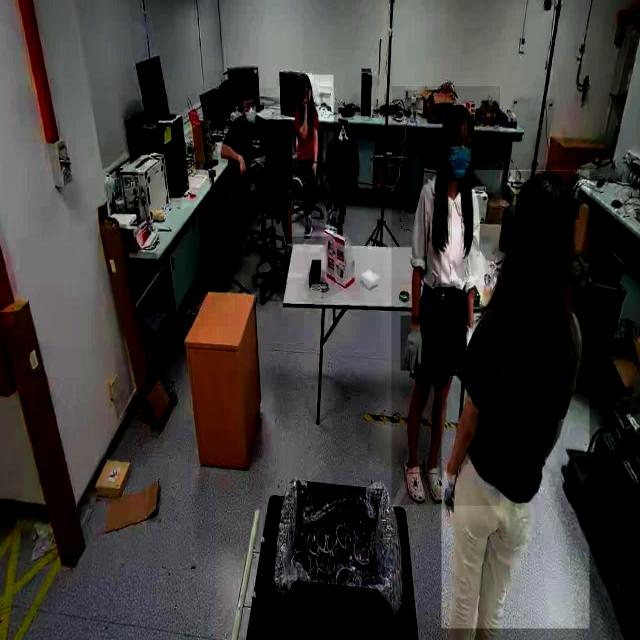face_mask: (446, 124, 474, 182), (242, 100, 258, 124)
face_nomask: (302, 89, 312, 103)
hand_glove: (400, 316, 429, 372)
hand_noglove: (238, 155, 248, 182), (312, 157, 319, 179), (303, 95, 309, 108)
head_nohelmet: (515, 170, 579, 220), (442, 104, 476, 128), (240, 80, 258, 98), (298, 73, 312, 86)
person: (441, 170, 589, 629), (391, 86, 500, 506), (291, 75, 333, 237), (221, 88, 277, 198)
